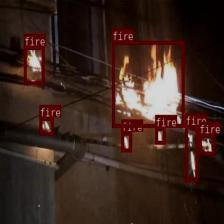fire: (112, 41, 184, 127), (23, 46, 44, 84), (185, 126, 198, 181), (199, 134, 215, 154), (39, 117, 53, 135), (120, 132, 132, 150), (155, 127, 165, 144)
